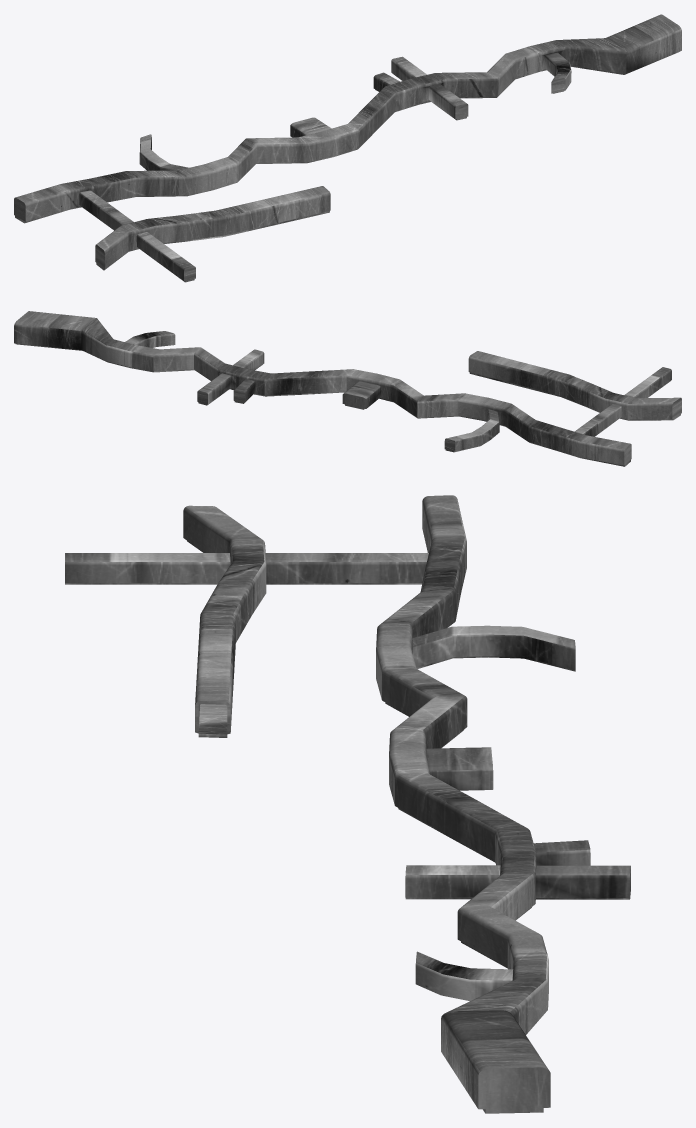
Rendered from Tunnel With Holes.fbx.
3 views of the same model, one above another, from view 1: azimuth 30°, elevation 25°; view 2: azimuth 150°, elevation 25°; view 3: azimuth 270°, elevation 25° (orthographic). The views are drawn at different scales.
Visible parts, largest first — view 1: Plane.001; view 2: Plane.001; view 3: Plane.001.
Part boxes in pixels (x1,y1,x2,y2): Plane.001: (14, 14, 681, 282); Plane.001: (14, 311, 681, 466); Plane.001: (65, 495, 630, 1113).
Size of the model in its own units: 7610 by 284 by 3169.
